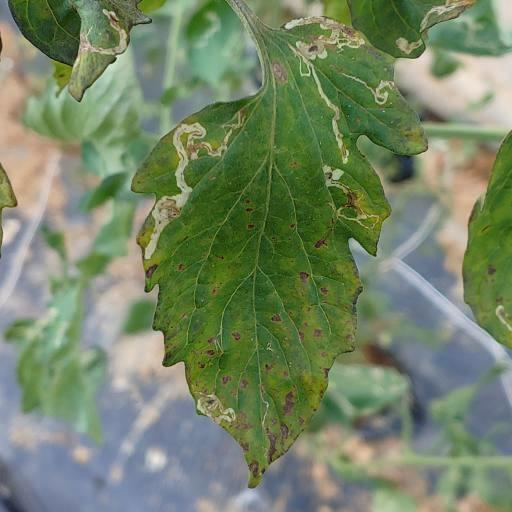Leaf Miner: (130, 13, 430, 491)
